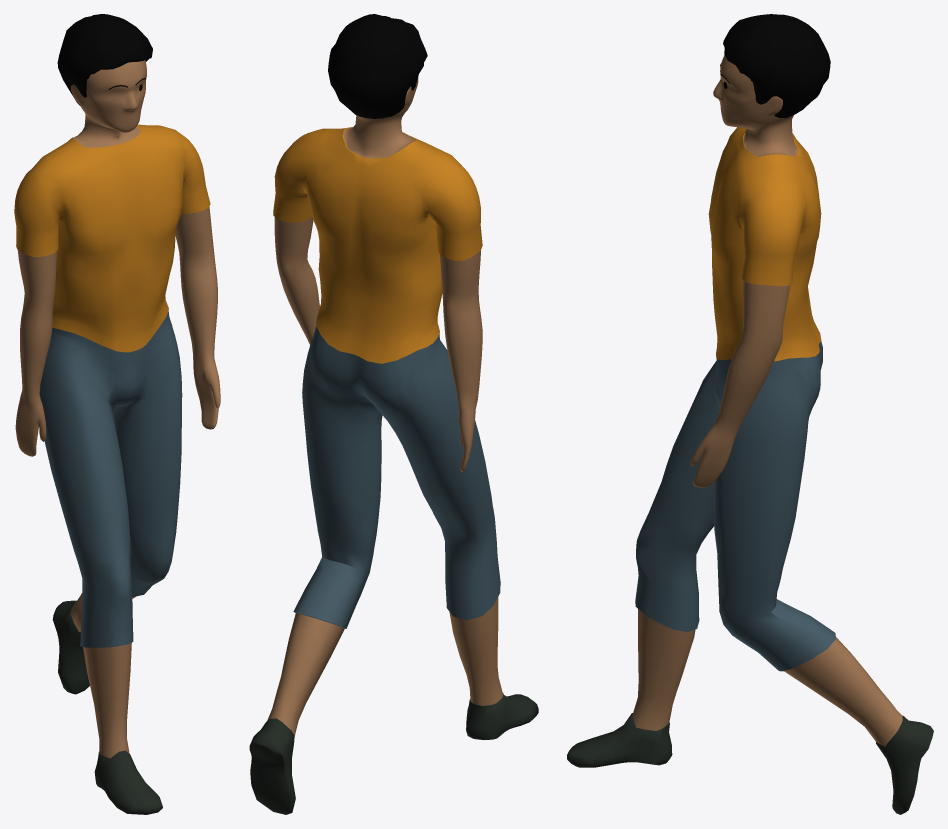
The model's file is Male_Walking_2.glb.
3 views of the same model, side by side, from view 1: azimuth 30°, elevation 25°; view 2: azimuth 150°, elevation 25°; view 3: azimuth 270°, elevation 25° (orthographic). The views are drawn at different scales.
Visible parts, largest first — view 1: Male_walking 2; view 2: Male_walking 2; view 3: Male_walking 2.
Boxes of the visible parts, <box> form: Male_walking 2: <box>14,14,220,814</box>; Male_walking 2: <box>249,14,538,814</box>; Male_walking 2: <box>567,14,933,814</box>.
Size of the model in its own units: 0.4615 by 1.67 by 0.7146.
